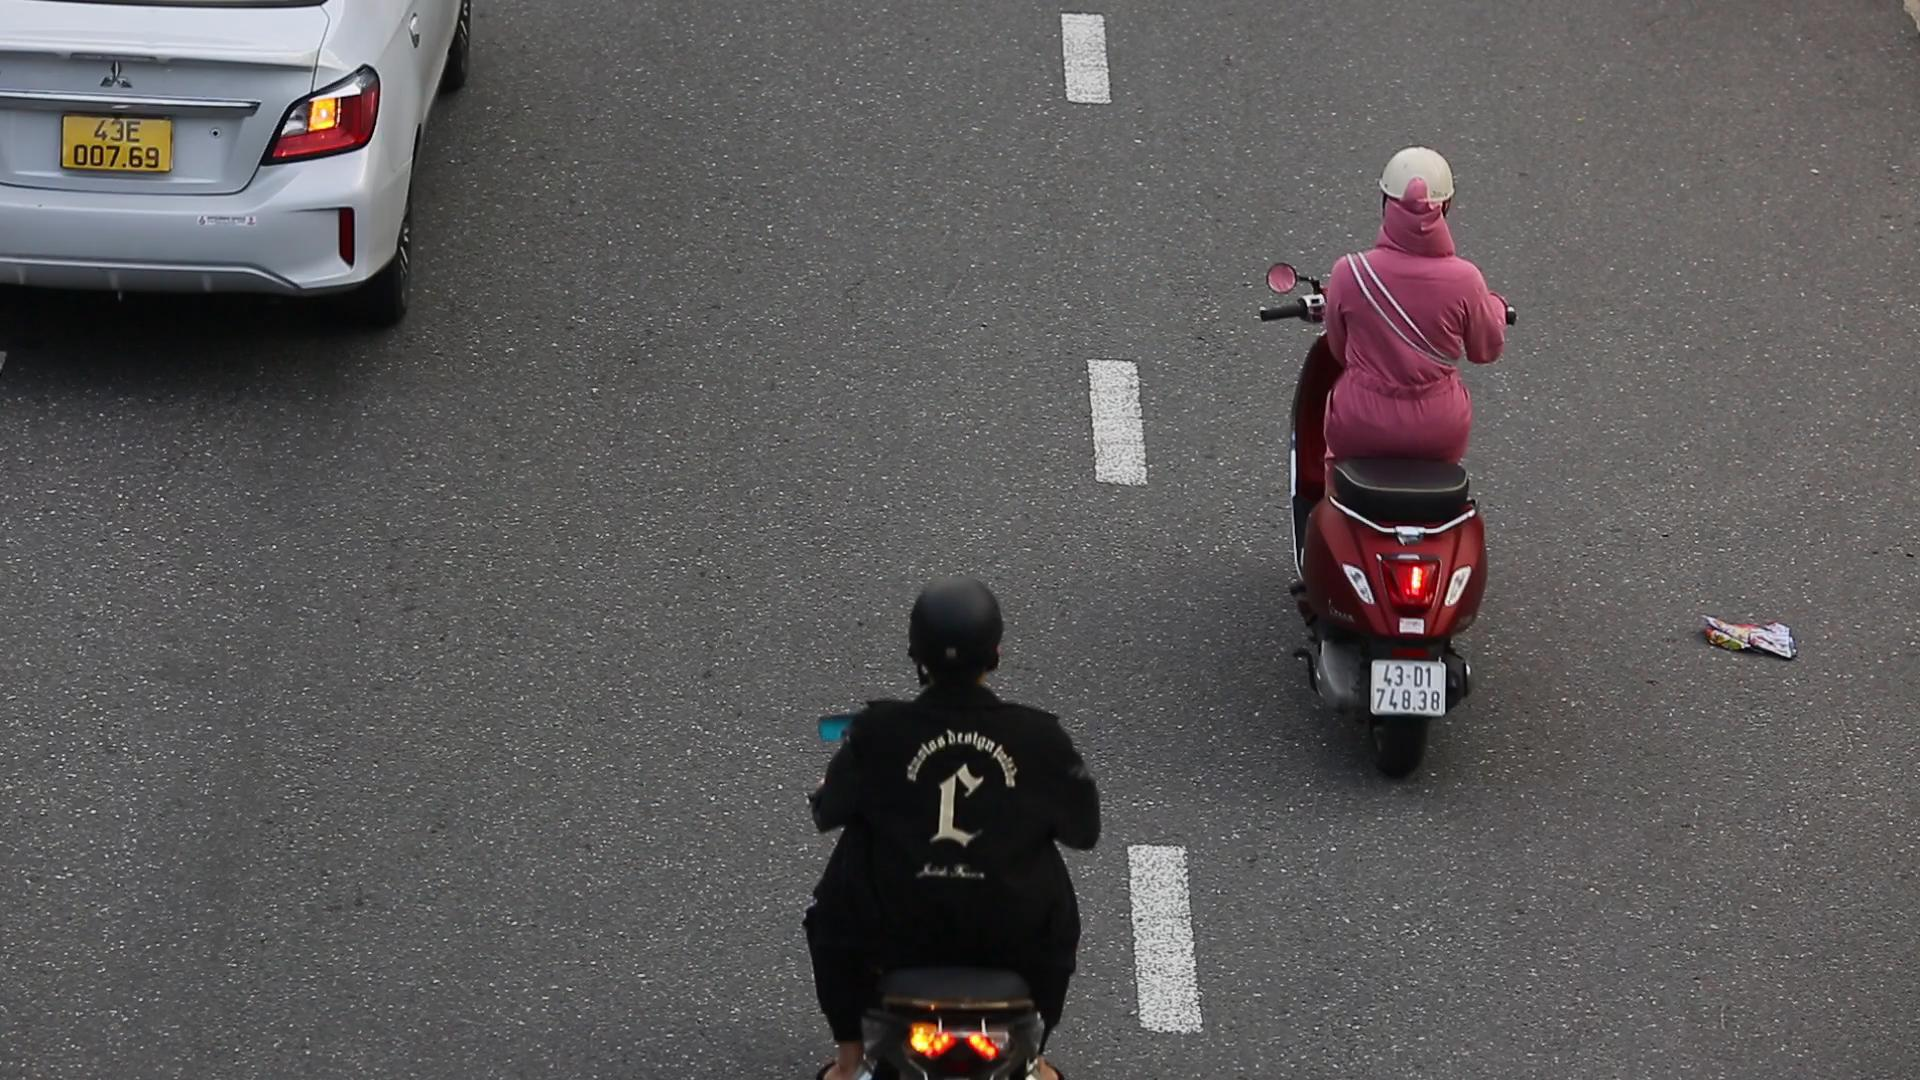motobike: (1246, 129, 1531, 803)
